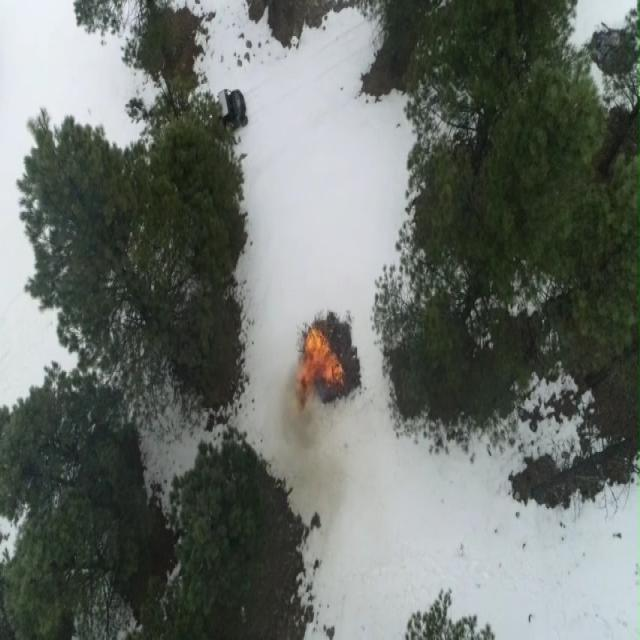Fire: (300, 331, 342, 384)
Smoke: (283, 373, 318, 448)
